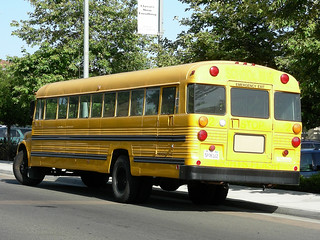bus: (12, 59, 302, 203)
